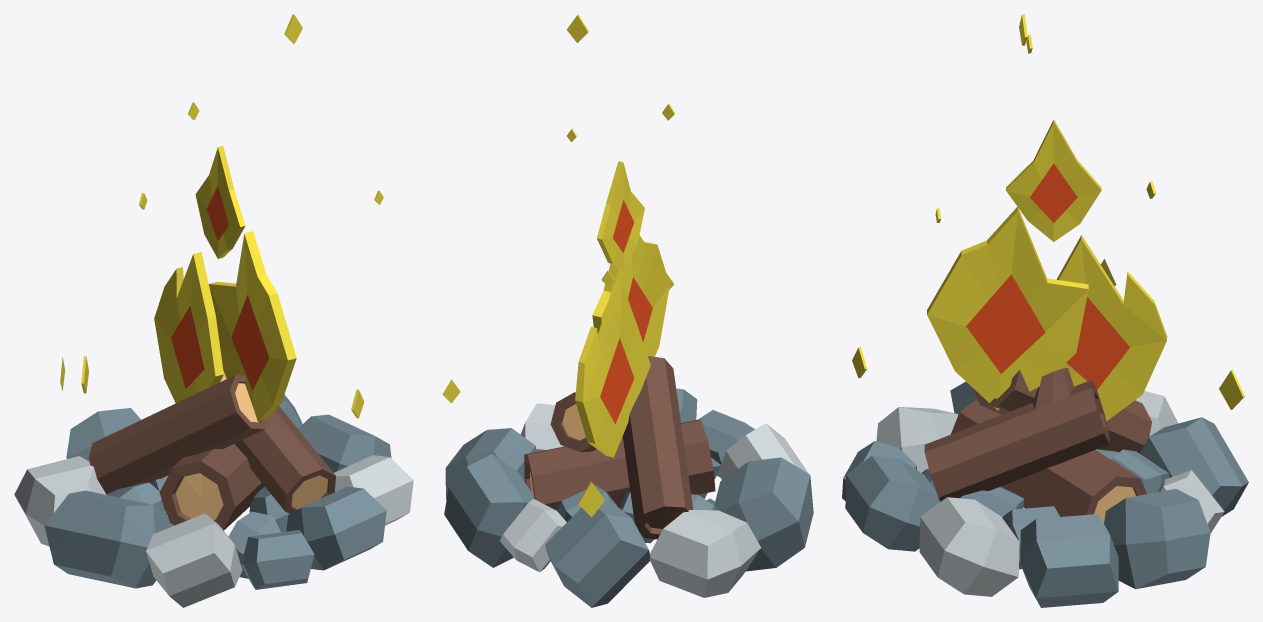
Rendered from caravan.gltf.
The picture shows the model from 3 angles, left to right: view 1: azimuth 30°, elevation 25°; view 2: azimuth 150°, elevation 25°; view 3: azimuth 270°, elevation 25°; orthographic projection. The views are drawn at different scales.
Parts seen in each view (by area): view 1: campfire_01_Plane.003; view 2: campfire_01_Plane.003; view 3: campfire_01_Plane.003.
Part boxes in pixels (left/top/right/bottom): campfire_01_Plane.003: left=14, top=14, right=413, bottom=607; campfire_01_Plane.003: left=442, top=14, right=813, bottom=607; campfire_01_Plane.003: left=842, top=14, right=1248, bottom=607.
Size of the model in its own units: 5.44 by 7.87 by 5.16.
